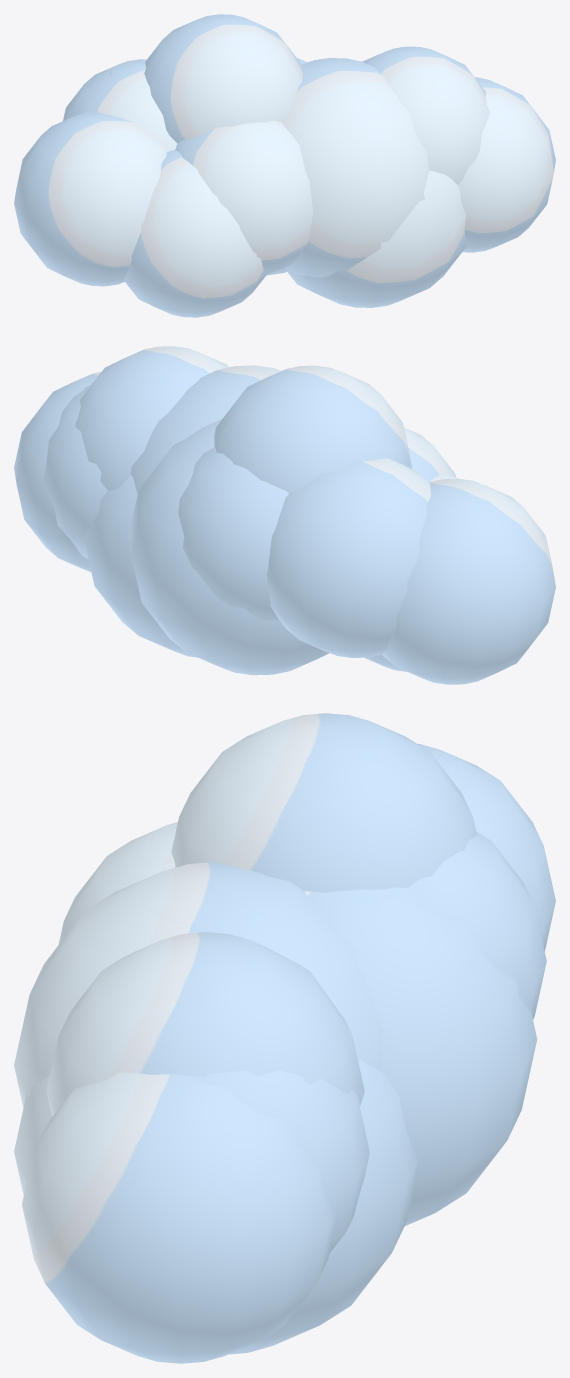
File: cloud1.glb
3 views of the same model, one above another, from view 1: azimuth 30°, elevation 25°; view 2: azimuth 150°, elevation 25°; view 3: azimuth 270°, elevation 25° (orthographic). The views are drawn at different scales.
Parts seen in each view (by area): view 1: Sphere_4; view 2: Sphere_4; view 3: Sphere_4.
Boxes of the visible parts, box(x1,y1,x2,y2) form: Sphere_4: box(14, 14, 555, 317); Sphere_4: box(14, 346, 555, 684); Sphere_4: box(14, 713, 555, 1363).
Bounding box in the file's own units: 126 × 70.49 × 68.1.
1 material, 1 textured.
